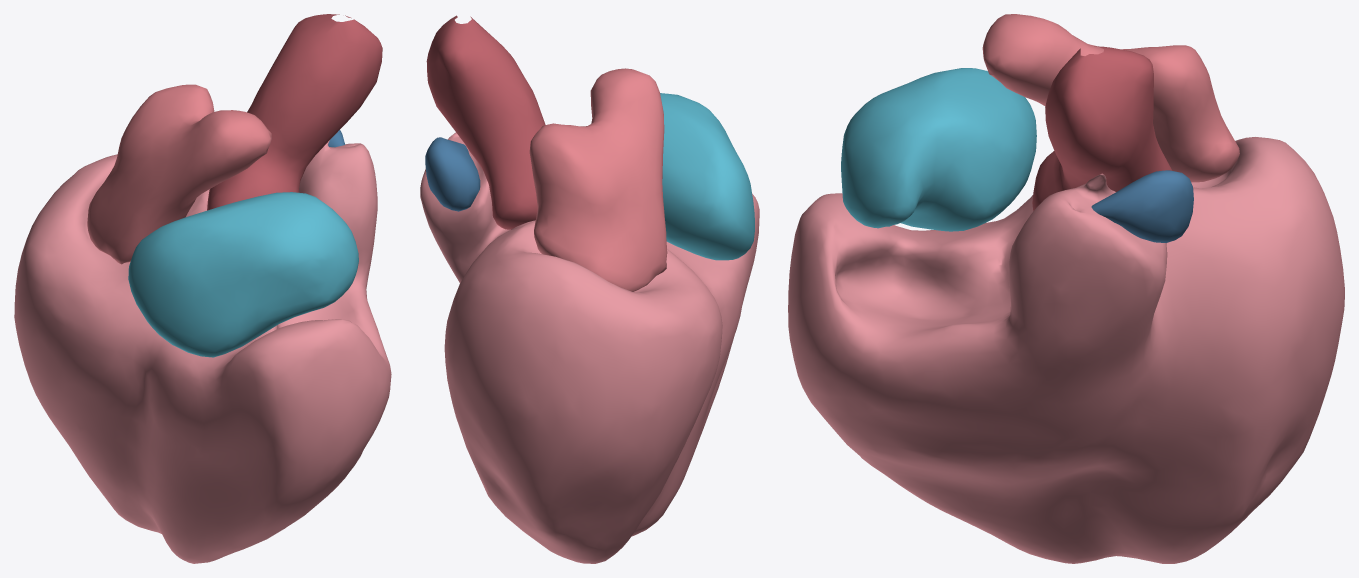
Rendered from frame_54.glb.
3 renders of one model, left to right at view 1: azimuth 30°, elevation 25°; view 2: azimuth 150°, elevation 25°; view 3: azimuth 270°, elevation 25°, orthographic. The views are drawn at different scales.
Visible parts, largest first — view 1: Renderer Node; view 2: Renderer Node; view 3: Renderer Node.
Part boxes in pixels (x1,y1,x2,y2): Renderer Node: [14, 14, 391, 563]; Renderer Node: [420, 15, 759, 563]; Renderer Node: [788, 14, 1344, 563].
Bounding box in the file's own units: 107 × 164 × 137.
